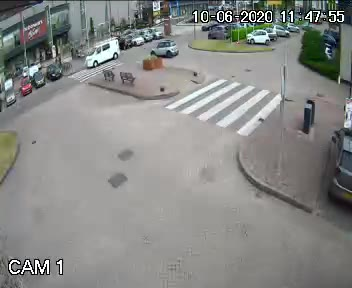car: (81, 40, 122, 66), (147, 37, 180, 57)
